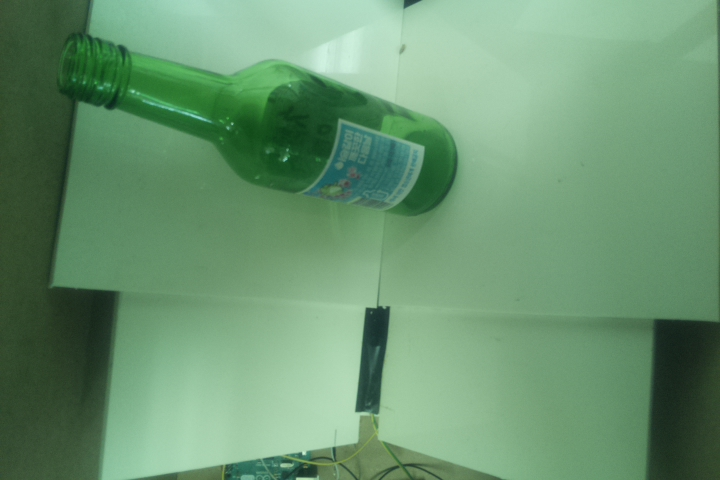soju: (55, 31, 458, 219)
